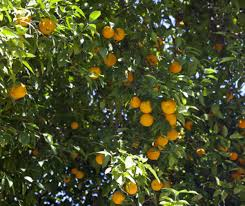orange: (139, 113, 157, 129), (161, 98, 178, 114), (137, 98, 154, 112), (86, 66, 101, 79)
